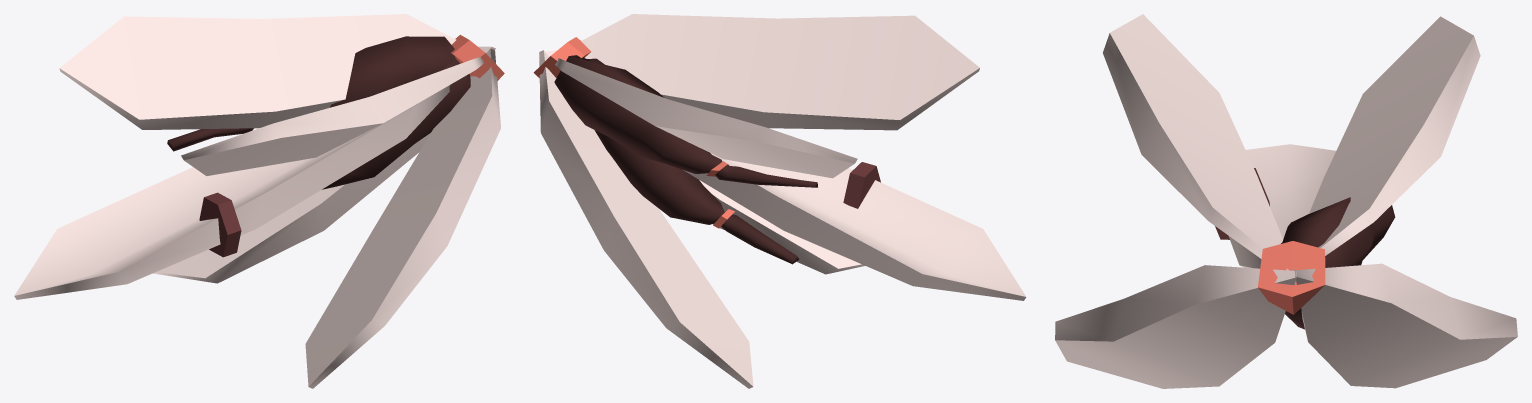
Rendered from QueenPonytailMale.glb.
The picture shows the model from 3 angles, left to right: view 1: azimuth 30°, elevation 25°; view 2: azimuth 150°, elevation 25°; view 3: azimuth 270°, elevation 25°; orthographic projection. The views are drawn at different scales.
Parts seen in each view (by area): view 1: QueenSkinPonyTail; view 2: QueenSkinPonyTail; view 3: QueenSkinPonyTail.
Boxes of the visible parts, x1,y1,x2,y2 form: QueenSkinPonyTail: [14, 14, 504, 388]; QueenSkinPonyTail: [533, 14, 1026, 388]; QueenSkinPonyTail: [1055, 14, 1517, 388].
Size of the model in its own units: 0.5759 by 0.2982 by 0.3905.
1 material, 1 textured.
